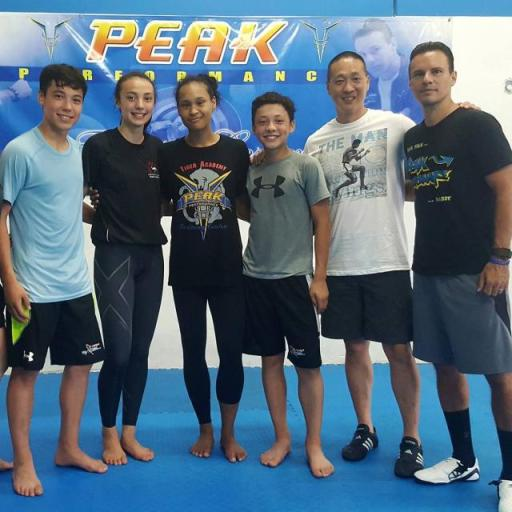Under Armour: (248, 171, 288, 201)
